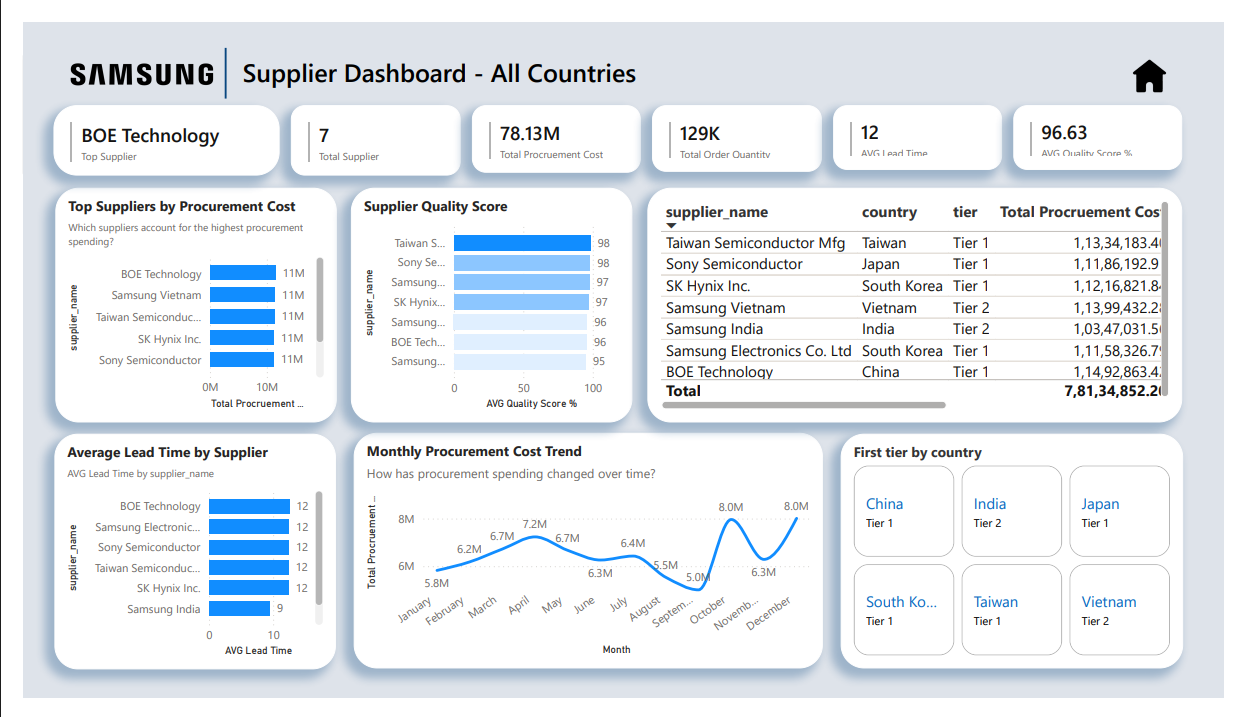

What the dashboard file says about the page in this screenshot:
{"tool":"powerbi","page":{"name":"Supplier","canvas":[1280,720],"ordinal":2},"visuals":[{"type":"image","box":[38.9,22.2,169.2,64.7],"z":0},{"type":"shape","box":[139.7,27.2,153,53.5],"z":1000},{"type":"cardVisual","fields":{"Data":["Measures Table.Total Supplier"]},"box":[286.2,88,180.3,75],"z":2000},{"type":"cardVisual","fields":{"Data":["Measures Table.Total Procruement Cost"]},"box":[478.7,88,180.3,72.1],"z":3000},{"type":"cardVisual","fields":{"Data":["Measures Table.Order_QNT"]},"box":[671.2,88,180.3,70.7],"z":4000},{"type":"cardVisual","fields":{"Data":["Measures Table.AVG Lead Time"]},"box":[863.6,88,180.3,69.3],"z":5000},{"type":"cardVisual","fields":{"Data":["Measures Table.AVG Quality Score %"]},"box":[1056.1,88,180.3,69.3],"z":6000},{"type":"clusteredBarChart","title":"Top Suppliers by Procurement Cost","fields":{"Category":["dim_Supplier.supplier_name"],"Y":["Measures Table.Total Procruement Cost"]},"box":[35.1,175.7,300,250],"z":7000},{"type":"lineChart","title":"Monthly Procurement Cost Trend","fields":{"Y":["Measures Table.Total Procruement Cost"],"Category":["dim_Date.date.Variation.Date Hierarchy.Month"]},"box":[353,436.8,499.9,250.7],"z":8000},{"type":"barChart","title":"Average Lead Time by Supplier","fields":{"Category":["dim_Supplier.supplier_name"],"Y":["Measures Table.AVG Lead Time"]},"box":[33.8,438.4,299.9,250.7],"z":9000},{"type":"barChart","title":"Supplier Quality Score","fields":{"Category":["dim_Supplier.supplier_name"],"Y":["Measures Table.AVG Quality Score %"]},"box":[350.4,175.7,299.9,250.7],"z":10000},{"type":"tableEx","fields":{"Values":["dim_Supplier.supplier_name","dim_Supplier.country","dim_Supplier.tier","Measures Table.Total Procruement Cost","Measures Table.Order_QNT","Measures Table.AVG Lead Time","Measures Table.AVG Quality Score %"]},"box":[665.7,175.7,570.6,250.7],"z":11000},{"type":"advancedSlicerVisual","fields":{"Values":["dim_Supplier.country"],"Label":["Min(dim_Supplier.tier)"]},"box":[872.1,437.6,364.5,250.7],"z":12000},{"type":"cardVisual","fields":{"Data":["Measures Table.Top Supplier"]},"box":[33.2,88,240.9,75],"z":13000},{"type":"card","fields":{"Values":["Dataset.Supplier Page Title"]},"box":[183.2,27.4,522.3,53.4],"z":14000},{"type":"image","box":[1165.8,21.6,70.7,70.7],"z":15000}]}

Visuals, with their boxes in screenshot pixels (x1, y1, x2, y2), scaled from the page's 1280x720 canvas onto the 1242x717 screenshot:
image: 38/22/202/87
shape: 136/27/284/80
cardVisual - Measures Table.Total Supplier: 278/88/453/162
cardVisual - Measures Table.Total Procruement Cost: 464/88/639/159
cardVisual - Measures Table.Order_QNT: 651/88/826/158
cardVisual - Measures Table.AVG Lead Time: 838/88/1013/157
cardVisual - Measures Table.AVG Quality Score %: 1025/88/1200/157
"Top Suppliers by Procurement Cost" clusteredBarChart: 34/175/325/424
"Monthly Procurement Cost Trend" lineChart: 343/435/828/685
"Average Lead Time by Supplier" barChart: 33/437/324/686
"Supplier Quality Score" barChart: 340/175/631/425
tableEx - dim_Supplier.supplier_name x dim_Supplier.country: 646/175/1200/425
advancedSlicerVisual - dim_Supplier.country x Min(dim_Supplier.tier): 846/436/1200/685
cardVisual - Measures Table.Top Supplier: 32/88/266/162
card - Dataset.Supplier Page Title: 178/27/685/80
image: 1131/22/1200/92
